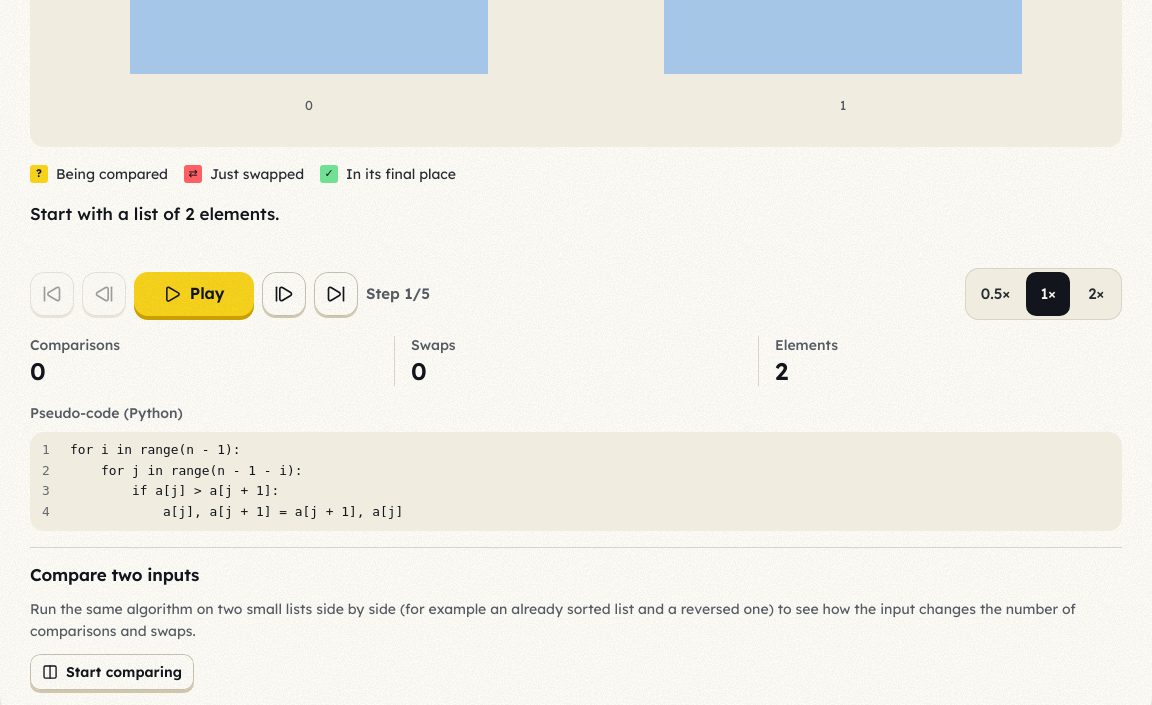
Test case: compare two inputs (spec §10.3) › one shared step index: the shorter run waits on its last frame
(page scrolled)
Click the button "Start comparing" at (112, 672), box [30,654,194,690]
(page scrolled)
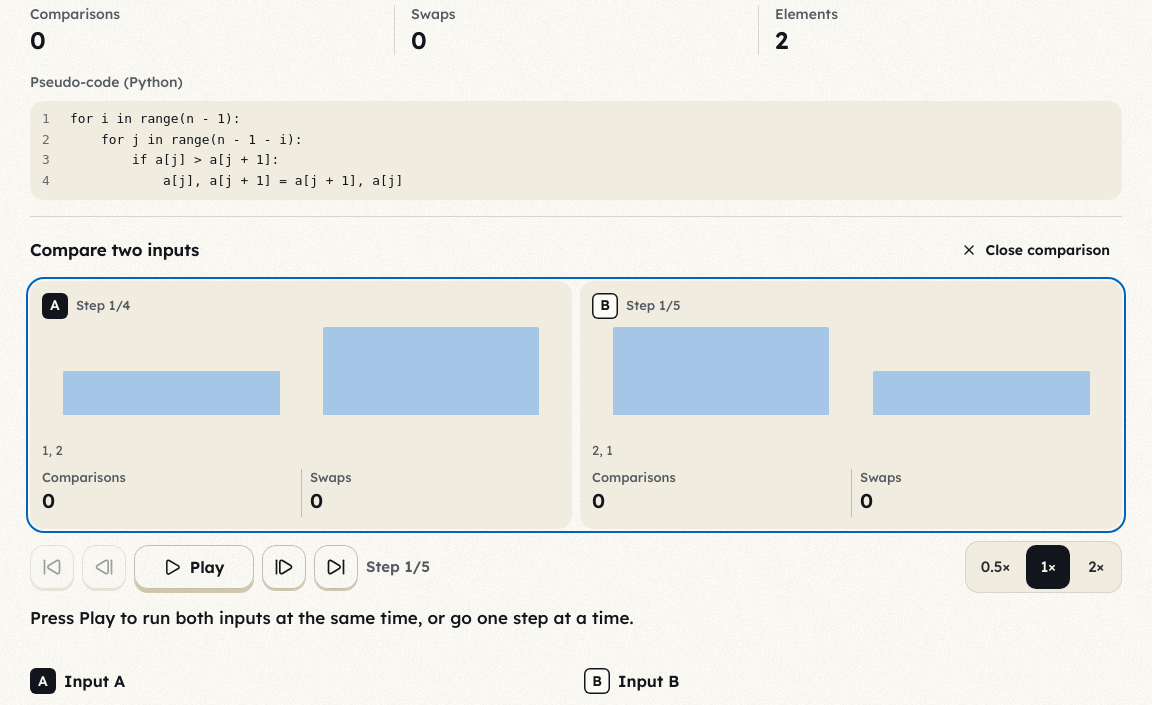
Press End in the element with class "alg-cmp-stage", box [30,280,1122,529]
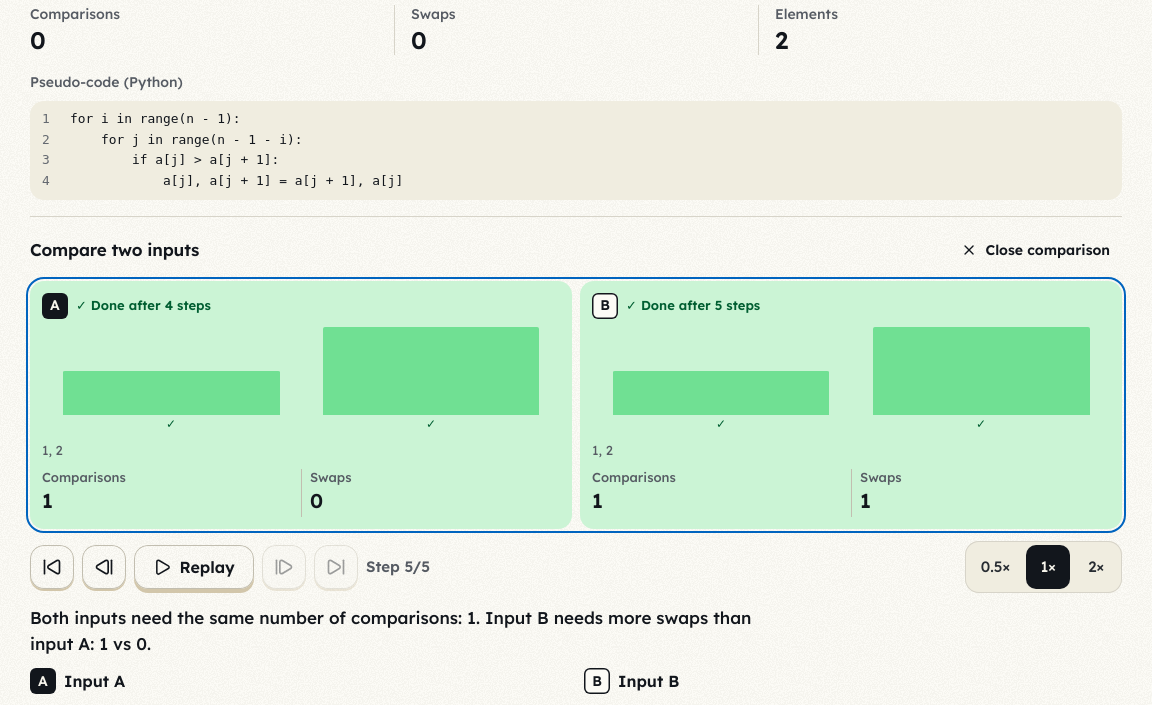
expect the element with class "alg-cmp-lane" shows "Done after 4 steps": met, box [91,297,211,313]
Press ArrowLeft in the element with class "alg-cmp-stage", box [30,280,1122,529]
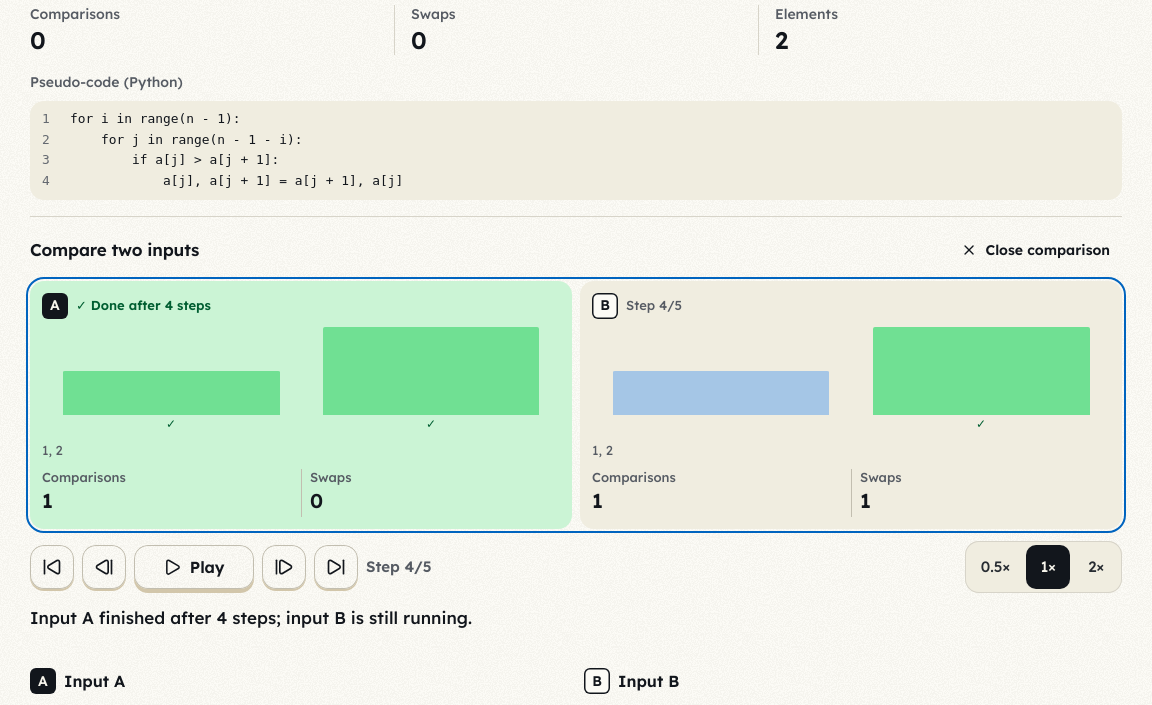
expect the element with class "alg-cmp-lane" shows "Done after 4 steps": met, box [91,297,211,313]
expect the element with class "alg-cmp-lane" shows "Step 4/5": met, box [626,297,682,313]
expect the text with class "alg-msg" reads "Input A finished after 4 steps; input B is still running.": met, box [30,607,472,628]
